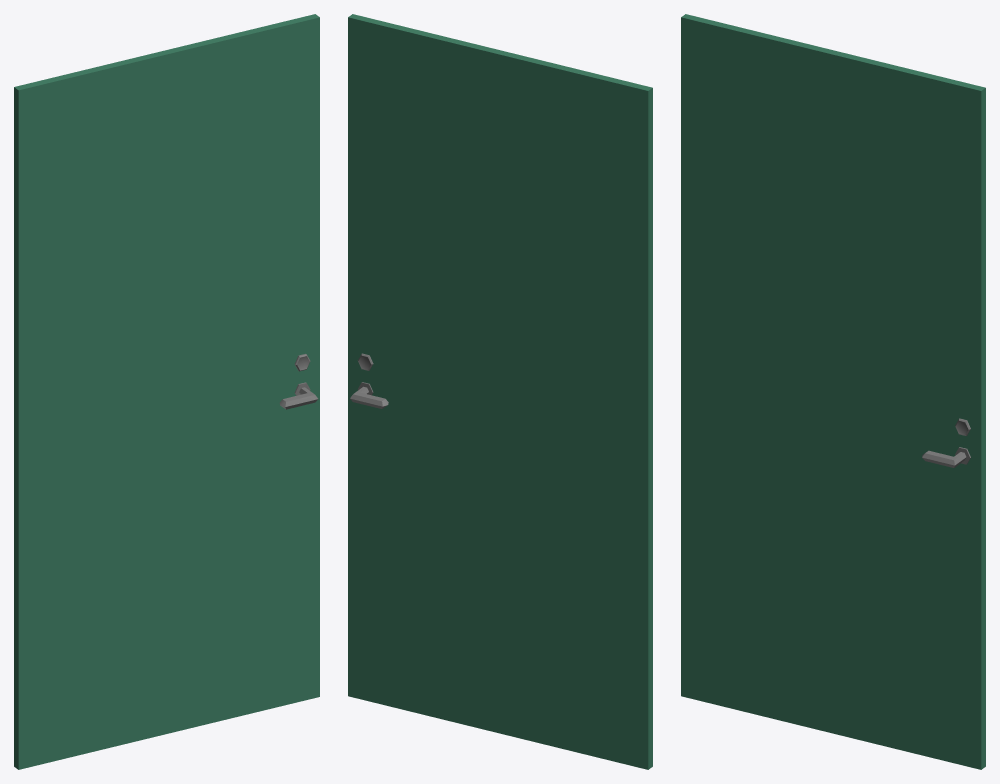
Rendered from SW_corridor__R_lobby_R_Aula_Ovi_004.FBX.
3 views of the same model, side by side, from view 1: azimuth 30°, elevation 25°; view 2: azimuth 150°, elevation 25°; view 3: azimuth 330°, elevation 25° (orthographic).
Parts seen in each view (by area): view 1: SW_corridor__R_lobby_R_Aula_Ovi_004; view 2: SW_corridor__R_lobby_R_Aula_Ovi_004; view 3: SW_corridor__R_lobby_R_Aula_Ovi_004.
Part boxes in pixels (left/top/right/bottom): SW_corridor__R_lobby_R_Aula_Ovi_004: left=14, top=14, right=319, bottom=769; SW_corridor__R_lobby_R_Aula_Ovi_004: left=348, top=14, right=652, bottom=769; SW_corridor__R_lobby_R_Aula_Ovi_004: left=681, top=14, right=985, bottom=769.
Size of the model in its own units: 95.01 by 15.99 by 205.
